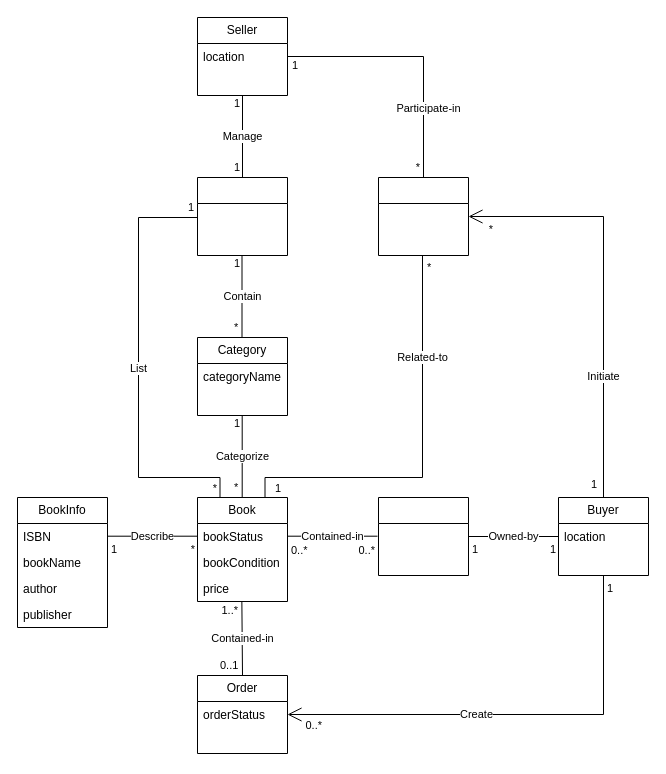
Some shapes in this 666 by 774 pixel diagram are drawn without their labels. Each missing label, with the centre of its shape:
Cart: the point at 423,536
Message: the point at 423,216
Shop: the point at 242,216
